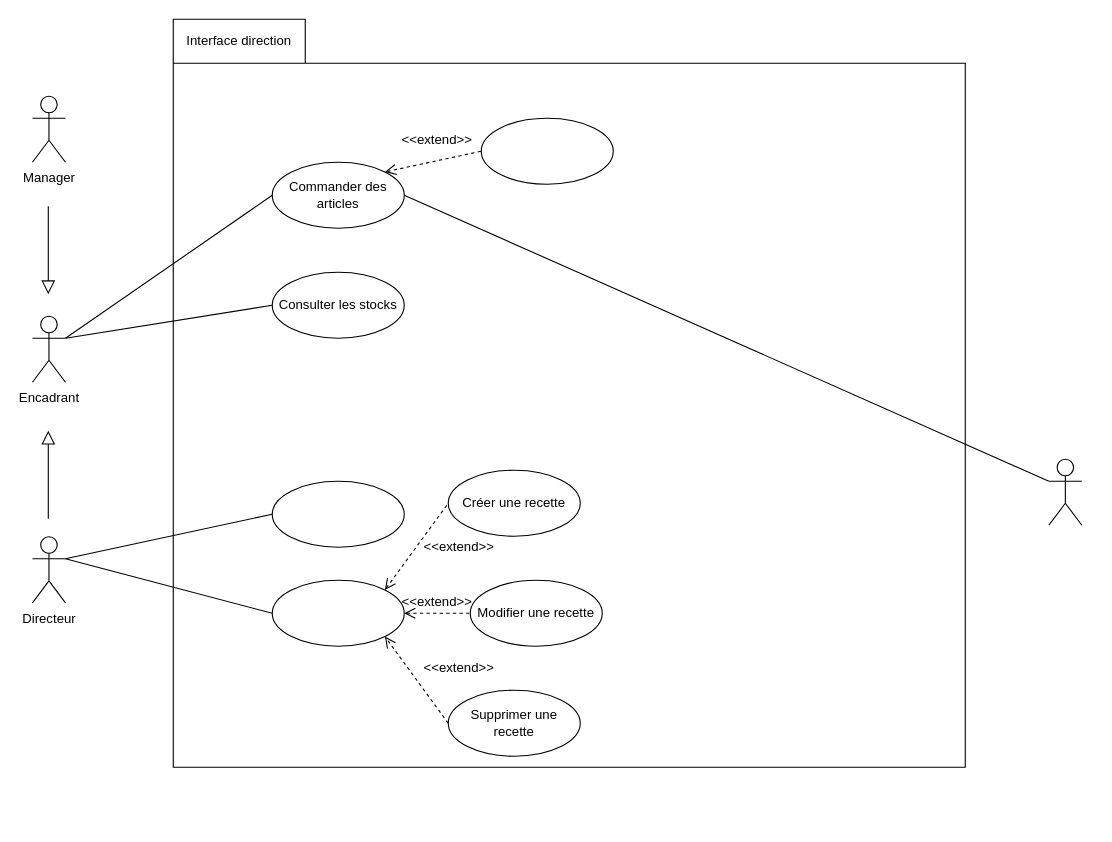
Some shapes in this 1112 by 842 pixel diagram are drawn without their labels. The shapes that lost their labels are listed below. From the top down, each one's centre as x and y in pixels, then its label:
At (x=546, y=150): "Approuver la commande".
At (x=1065, y=491): "Grossiste".
At (x=337, y=513): "Suppression d'un compte utilisateur".
At (x=337, y=612): "Gérer les recettes".
